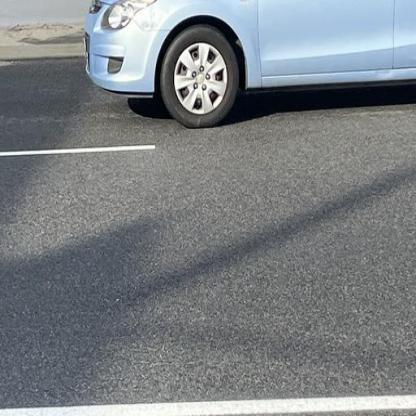Tire: (159, 23, 240, 129)
